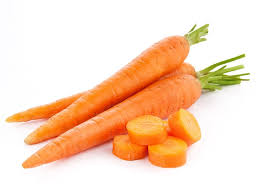carrot: (24, 30, 194, 146), (19, 69, 216, 169)
